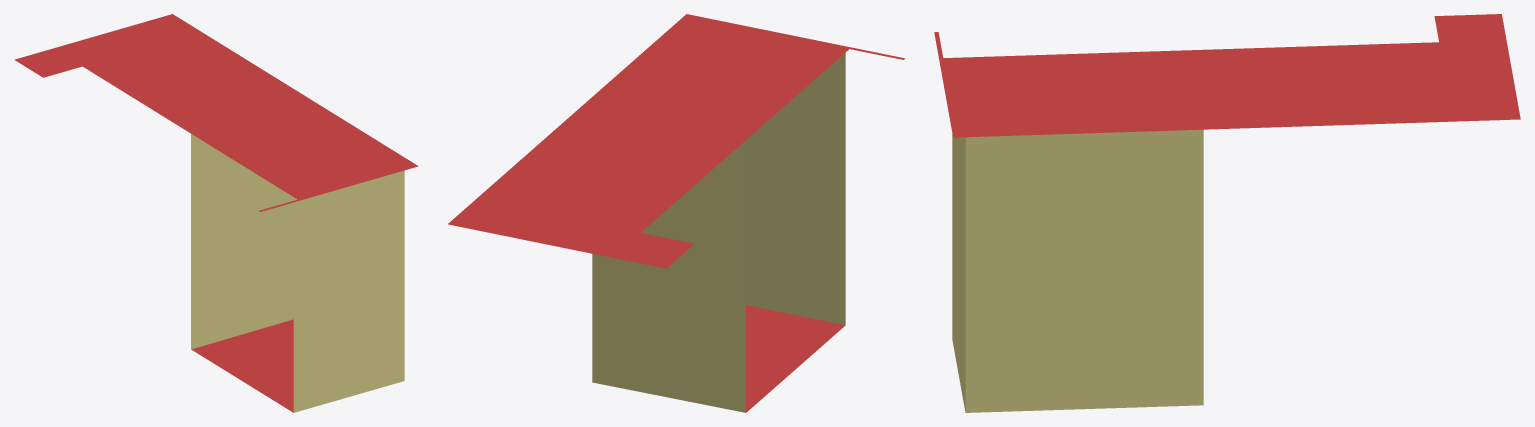
3 views of the same model, side by side, from view 1: azimuth 30°, elevation 25°; view 2: azimuth 150°, elevation 25°; view 3: azimuth 270°, elevation 25° (orthographic). The views are drawn at different scales.
Size of the model in its own units: 5.46 by 10.95 by 5.8.
